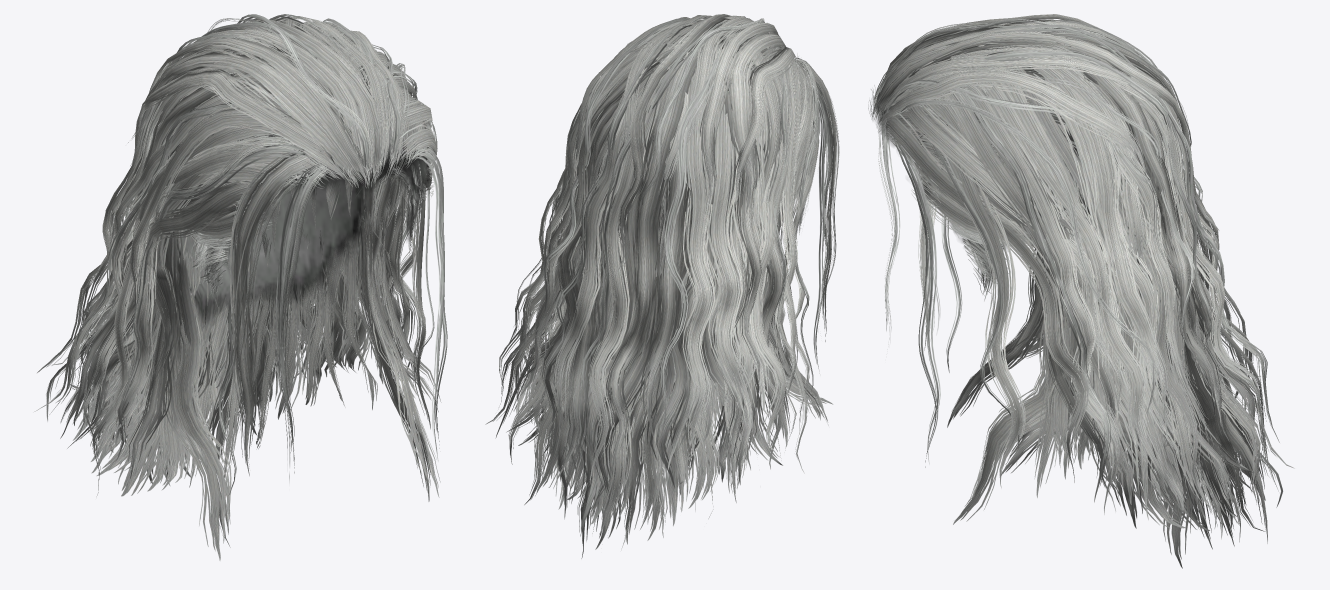
File: hair001.glb
The picture shows the model from 3 angles, left to right: view 1: azimuth 30°, elevation 25°; view 2: azimuth 150°, elevation 25°; view 3: azimuth 270°, elevation 25°; orthographic projection. The views are drawn at different scales.
Visible parts, largest first — view 1: hair, scalp; view 2: hair; view 3: hair, scalp.
Part boxes in pixels (x1=…): hair: x1=34, y1=14, x2=447, y2=560; scalp: x1=154, y1=36, x2=430, y2=323; hair: x1=485, y1=14, x2=839, y2=558; hair: x1=868, y1=14, x2=1294, y2=568; scalp: x1=877, y1=43, x2=1175, y2=281.
Bounding box in the file's own units: 0.2108 × 0.3074 × 0.2357.
2 materials, 2 textured.
